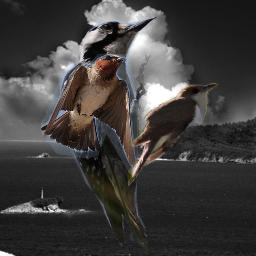Cuckoo: (128, 82, 218, 189)
Swallow: (41, 54, 138, 175)
Woodpecker: (51, 5, 164, 256)
